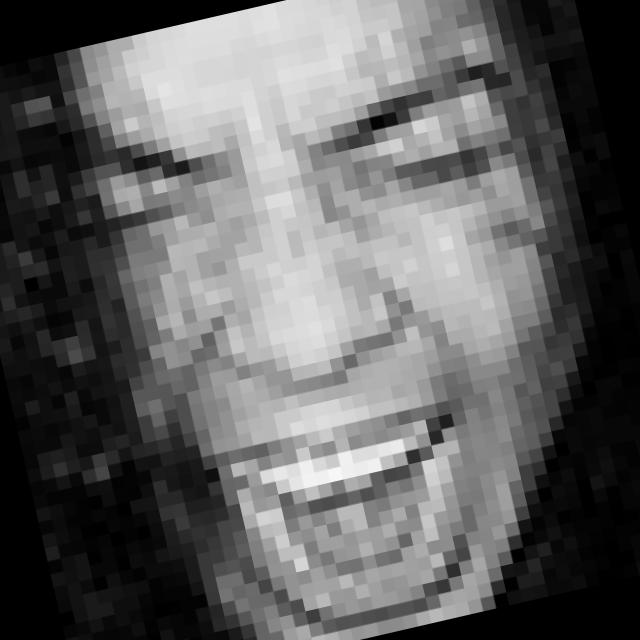angry: (69, 41, 630, 640)
